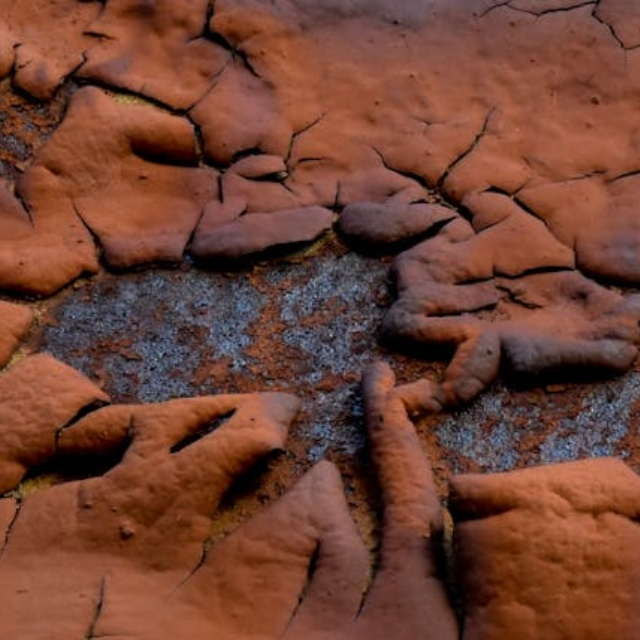深大裂缝: (0, 148, 640, 619)
细微裂纹: (402, 0, 640, 96), (0, 556, 179, 640)
